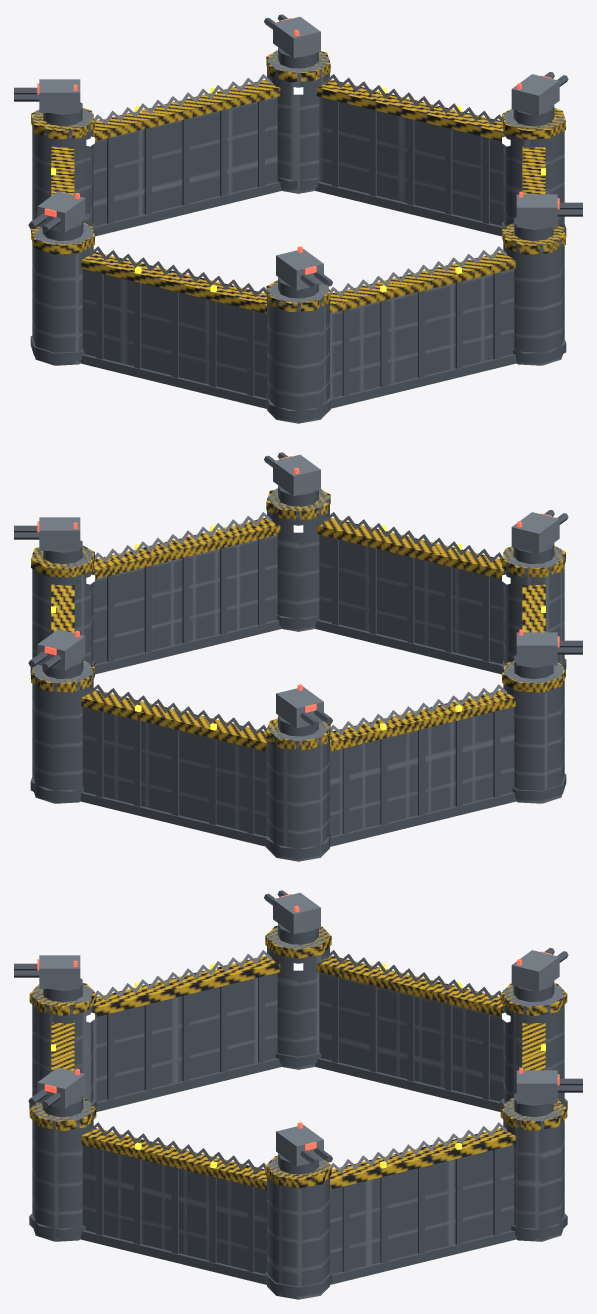
File: fort_l7.glb
3 renders of one model, top to bottom at view 1: azimuth 30°, elevation 25°; view 2: azimuth 150°, elevation 25°; view 3: azimuth 270°, elevation 25°, orthographic.
Parts seen in each view (by area): view 1: fort_l7; view 2: fort_l7; view 3: fort_l7.
Boxes of the visible parts, x1,y1,x2,y2 form: fort_l7: (14, 14, 582, 423); fort_l7: (14, 452, 582, 861); fort_l7: (14, 890, 582, 1299).
Bounding box in the file's own units: 2.03 × 0.546 × 1.8.
5 materials, 1 textured.
